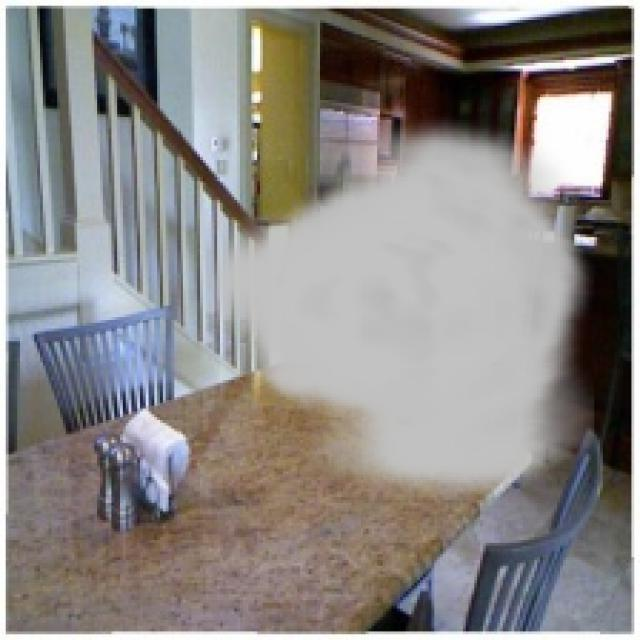Smoke: (200, 111, 594, 500)
